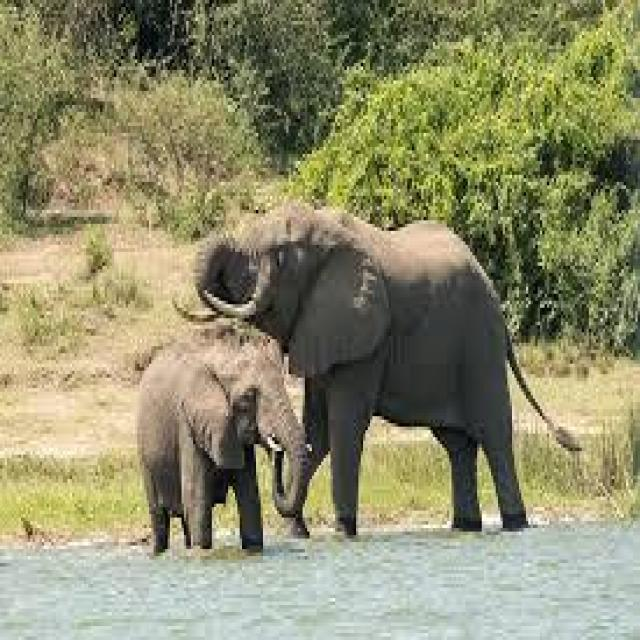Elephant: (130, 213, 575, 552), (135, 332, 303, 553)
